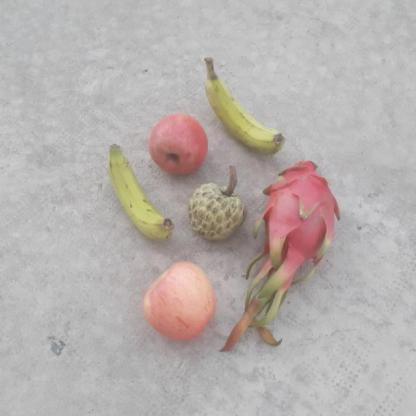annona: (184, 180, 249, 239)
apple: (142, 258, 225, 346), (143, 112, 216, 179)
banana: (205, 63, 294, 155), (103, 142, 174, 244)
pitaya: (256, 160, 347, 264)
